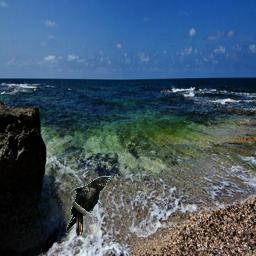Crow: (66, 176, 111, 237)
